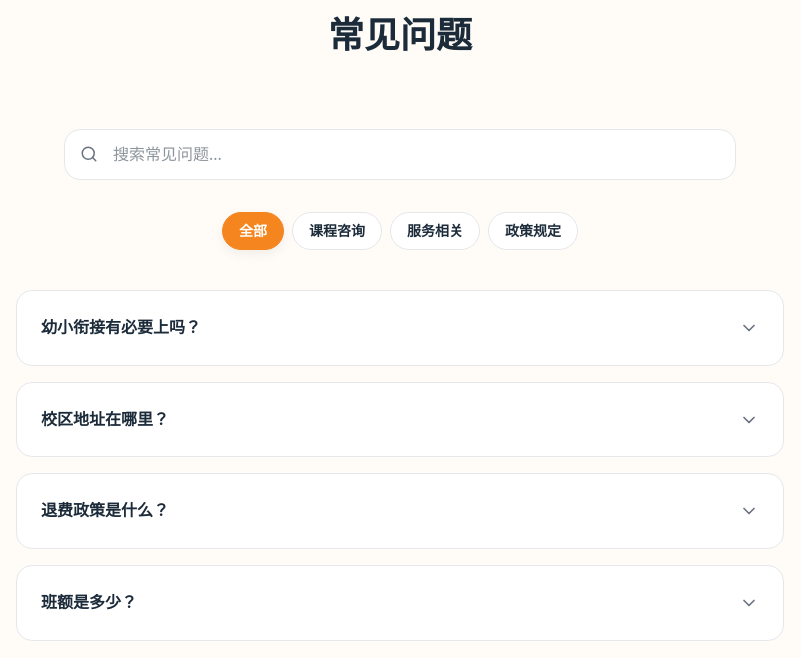
Test: Faq 组件 › 点击"政策规定"pill 只显示 policy 类 FAQ
Click the button "政策规定". click: point(533, 231)
box: [488,212,578,250]
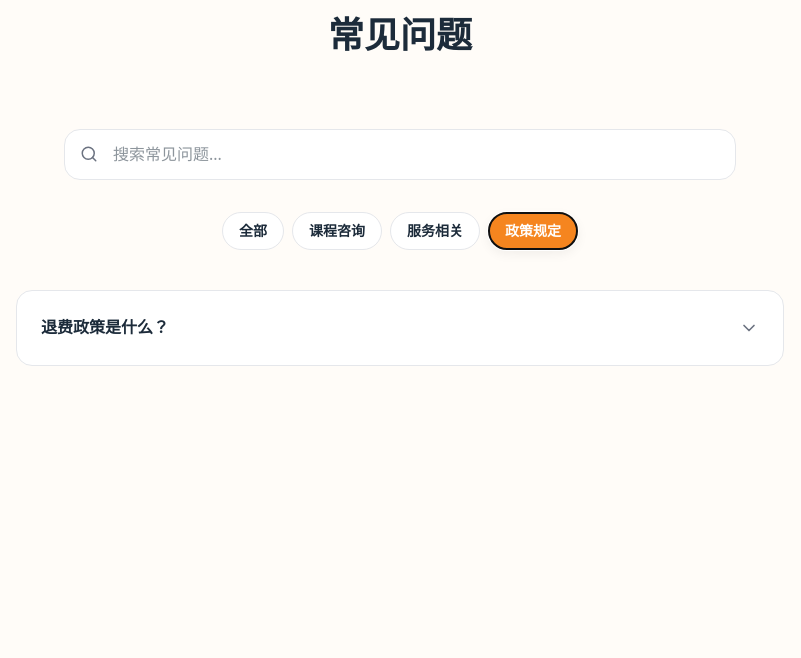
Expected: the text "退费政策是什么？" is shown, [41,315,169,341]
Now the button "幼小衔接有必要上吗？" is gone
Now the button "校区地址在哪里？" is gone
